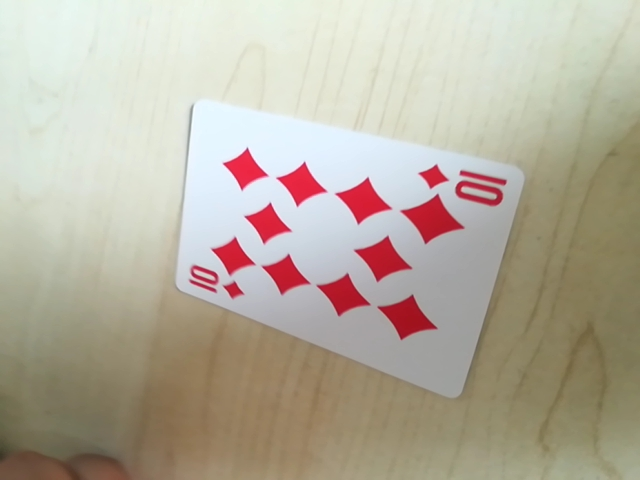fk 10: (417, 160, 511, 204), (182, 264, 248, 304)
